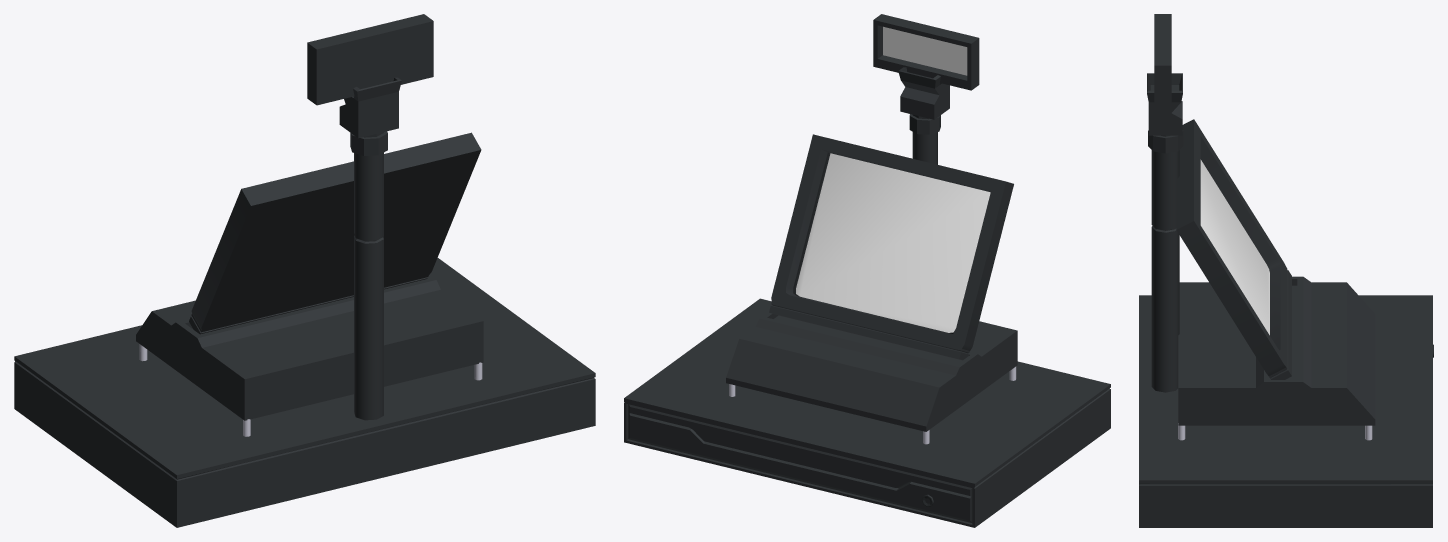
The model's file is SM_cash_register.fbx.
The picture shows the model from 3 angles, left to right: view 1: azimuth 30°, elevation 25°; view 2: azimuth 150°, elevation 25°; view 3: azimuth 270°, elevation 25°; orthographic projection. The views are drawn at different scales.
Visible parts, largest first — view 1: cash_register; view 2: cash_register; view 3: cash_register.
Boxes of the visible parts, box(x1,y1,x2,y2) form: cash_register: box(14, 14, 595, 527); cash_register: box(624, 14, 1110, 527); cash_register: box(1139, 14, 1433, 527).
Bounding box in the file's own units: 68.52 × 68.18 × 46.19.
